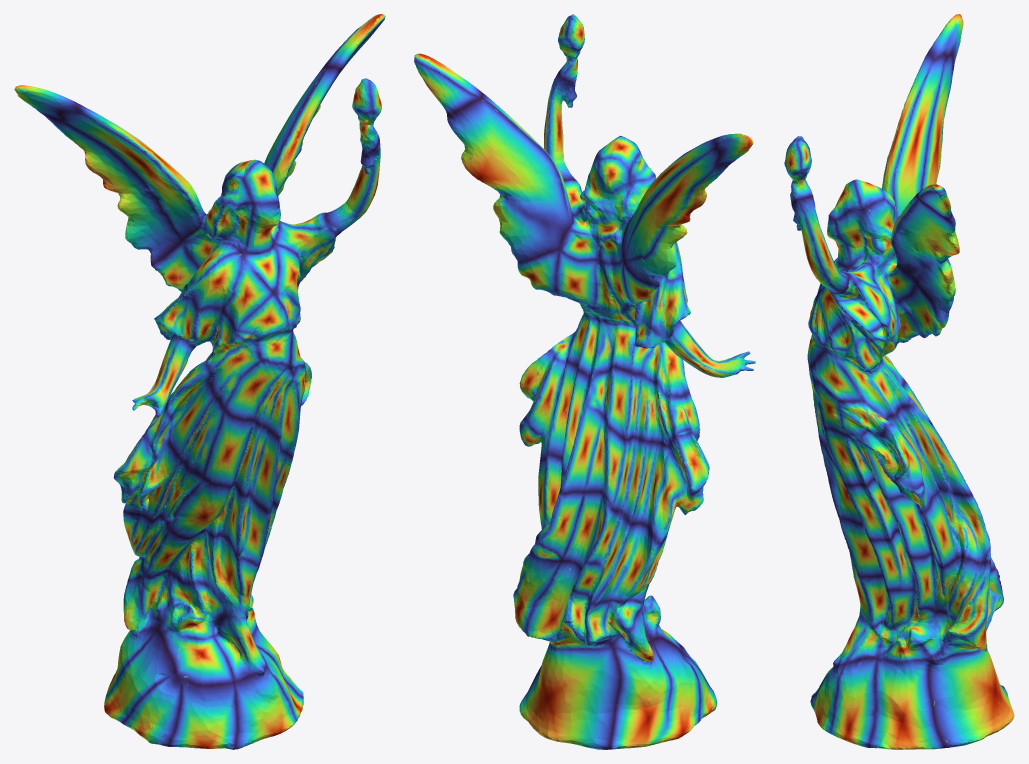
Rendered from gen2.glb.
The picture shows the model from 3 angles, left to right: view 1: azimuth 30°, elevation 25°; view 2: azimuth 150°, elevation 25°; view 3: azimuth 270°, elevation 25°; orthographic projection. The views are drawn at different scales.
Visible parts, largest first — view 1: Node; view 2: Node; view 3: Node.
Boxes of the visible parts, x1=… form: Node: x1=14, y1=14, x2=385, y2=749; Node: x1=414, y1=14, x2=755, y2=749; Node: x1=784, y1=14, x2=1014, y2=749.
Bounding box in the file's own units: 919 × 1583 × 526.
Materials: 1 (1 with a texture image).
